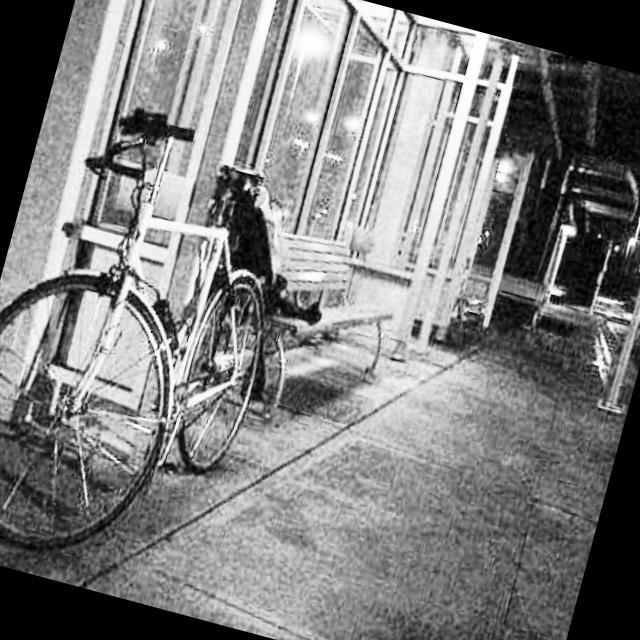Bicycle: (0, 99, 321, 535)
